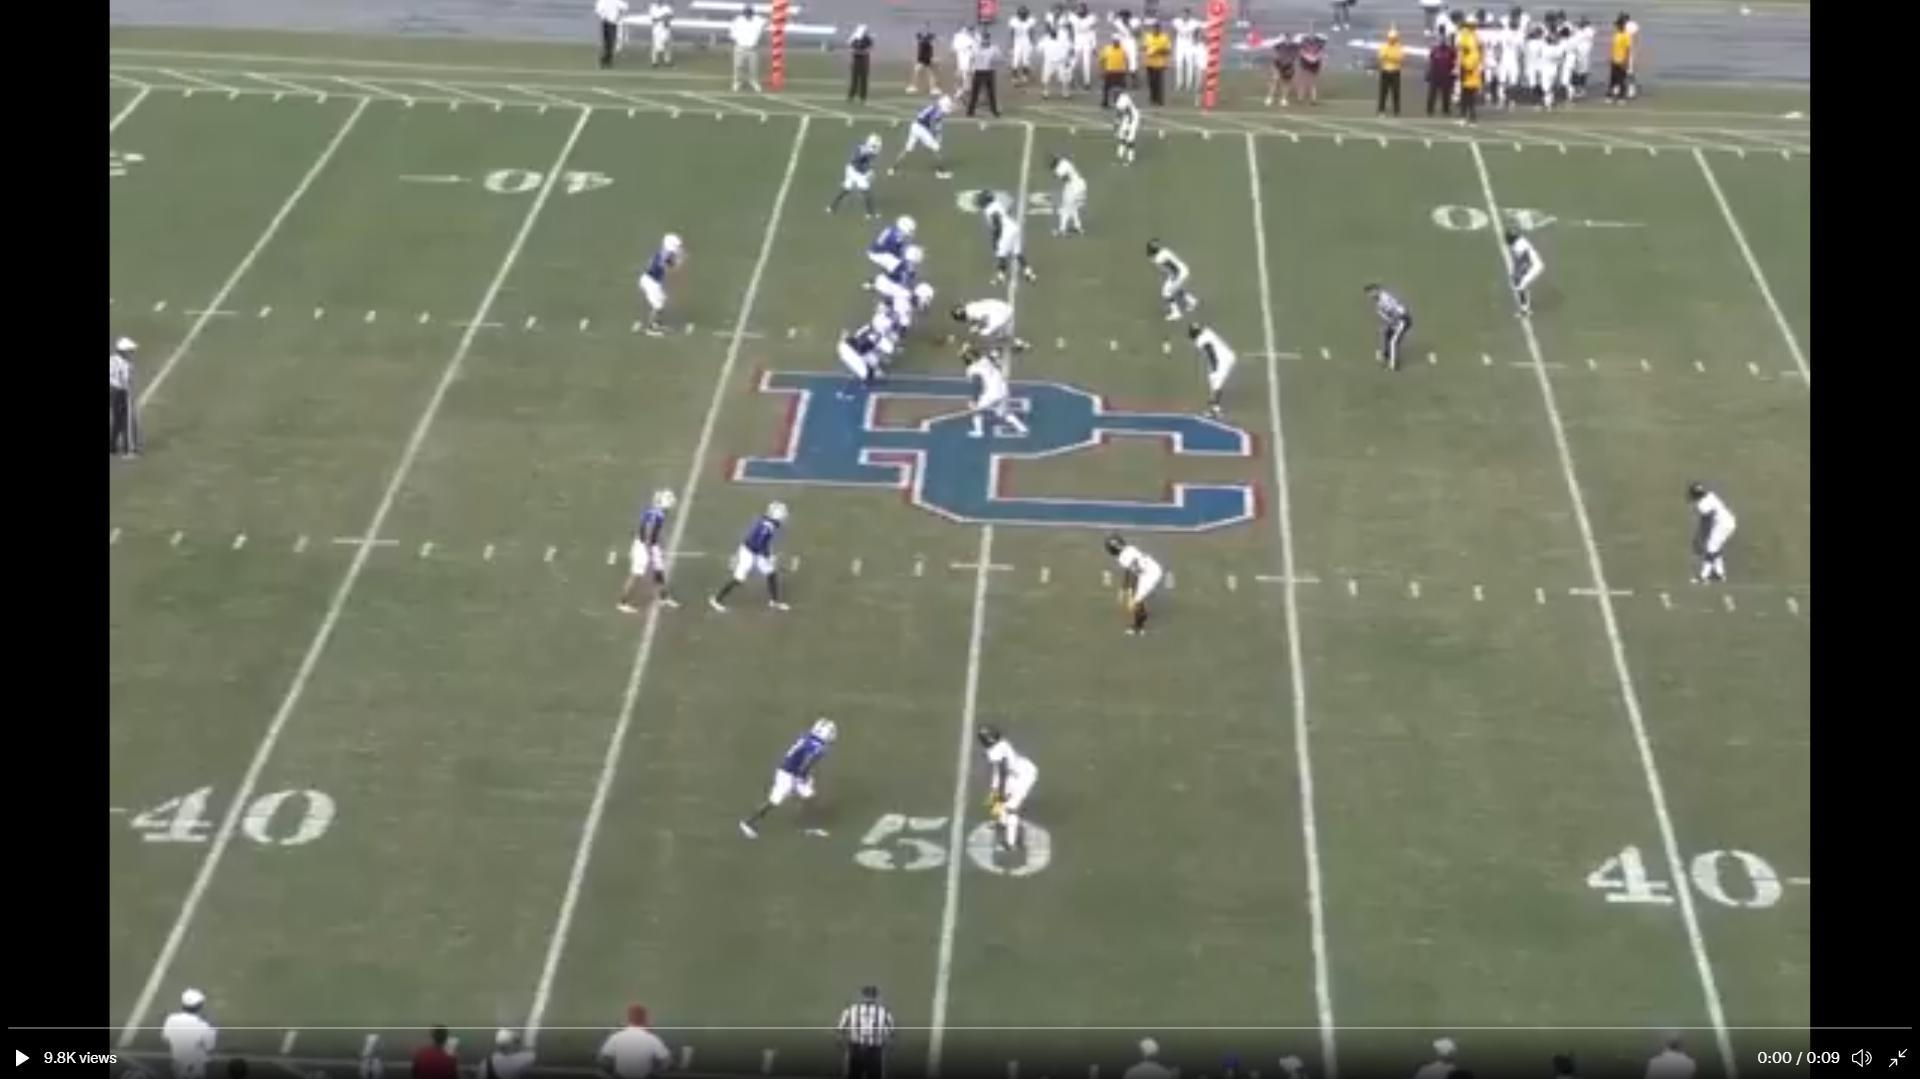defense: (980, 719, 1047, 865), (1098, 532, 1163, 648), (959, 352, 1034, 447), (982, 186, 1040, 295), (1685, 478, 1739, 594), (959, 290, 1035, 365), (1188, 321, 1238, 431), (1499, 227, 1549, 330), (1149, 237, 1201, 331), (1043, 154, 1091, 249), (1110, 83, 1139, 171)
oline: (831, 314, 903, 408), (865, 274, 931, 359), (866, 249, 927, 327), (862, 214, 918, 290), (873, 301, 913, 338)
qb: (634, 232, 694, 348)
ref: (111, 326, 148, 472), (1366, 281, 1415, 383), (964, 32, 1005, 120)
skill: (729, 715, 841, 851), (703, 497, 793, 620), (615, 481, 688, 624), (885, 91, 953, 186), (823, 131, 887, 224)
